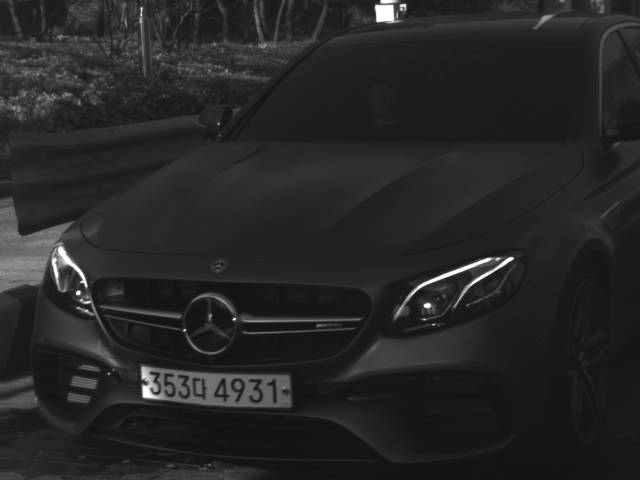car: (29, 15, 640, 472)
plate: (139, 365, 294, 410)
